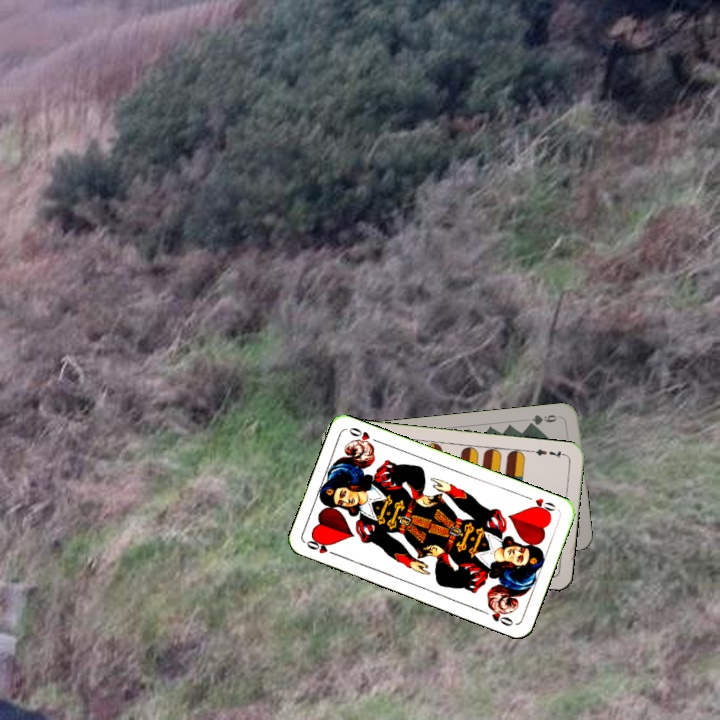E7: (528, 445, 568, 460)
G9: (524, 410, 564, 429)
HO: (521, 492, 560, 517), (302, 535, 341, 558)
